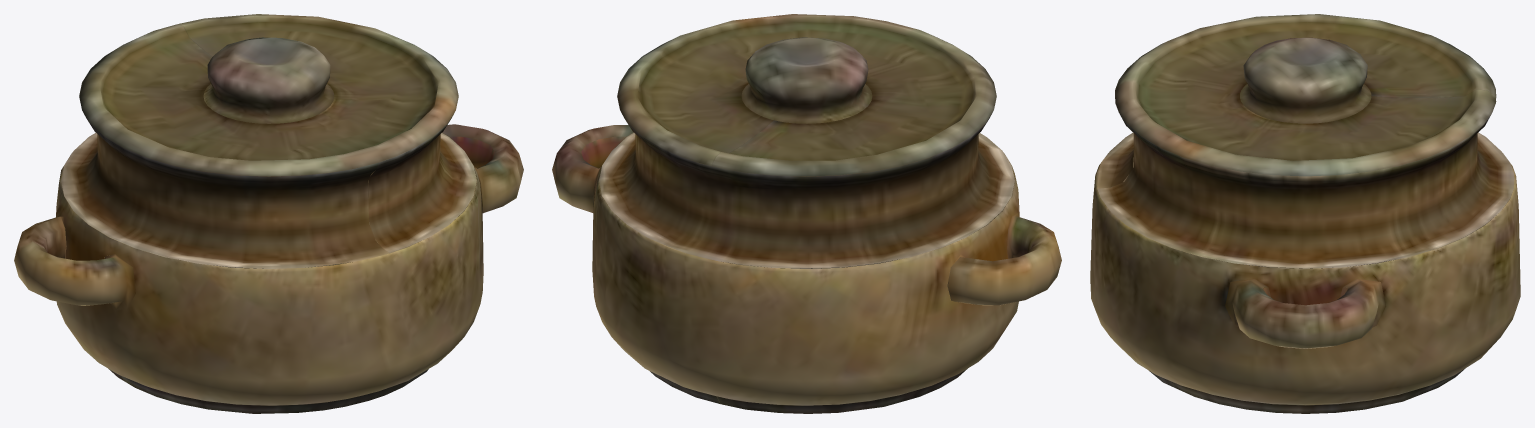
The model's file is pot_clay.glb.
The picture shows the model from 3 angles, left to right: view 1: azimuth 30°, elevation 25°; view 2: azimuth 150°, elevation 25°; view 3: azimuth 270°, elevation 25°; orthographic projection.
Parts seen in each view (by area): view 1: ceramic_pot; view 2: ceramic_pot; view 3: ceramic_pot.
Part boxes in pixels (<box>): ceramic_pot: <box>14,14,523,413</box>; ceramic_pot: <box>552,14,1061,413</box>; ceramic_pot: <box>1090,14,1520,413</box>.
Size of the model in its own units: 0.6563 by 0.3717 by 0.5015.
Materials: 1 (1 with a texture image).
